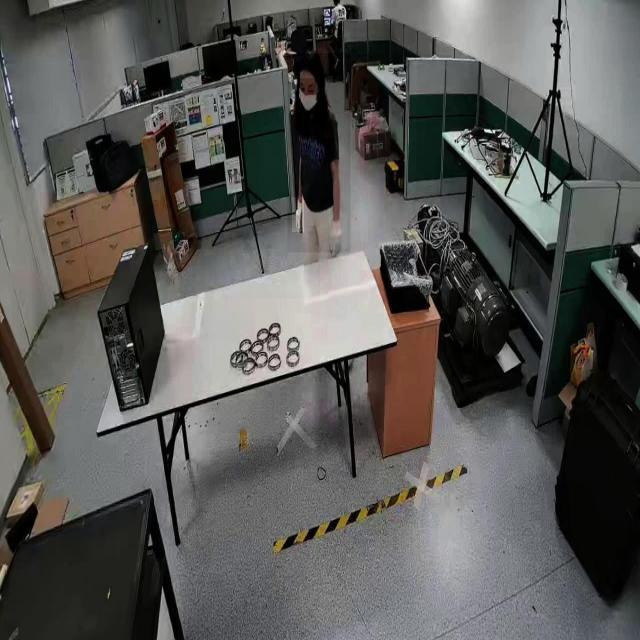gloves: (328, 212, 348, 250), (292, 197, 304, 233)
